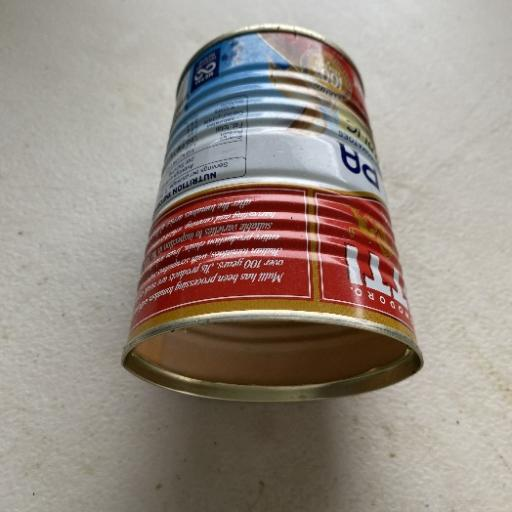Metal: (119, 22, 425, 404)
